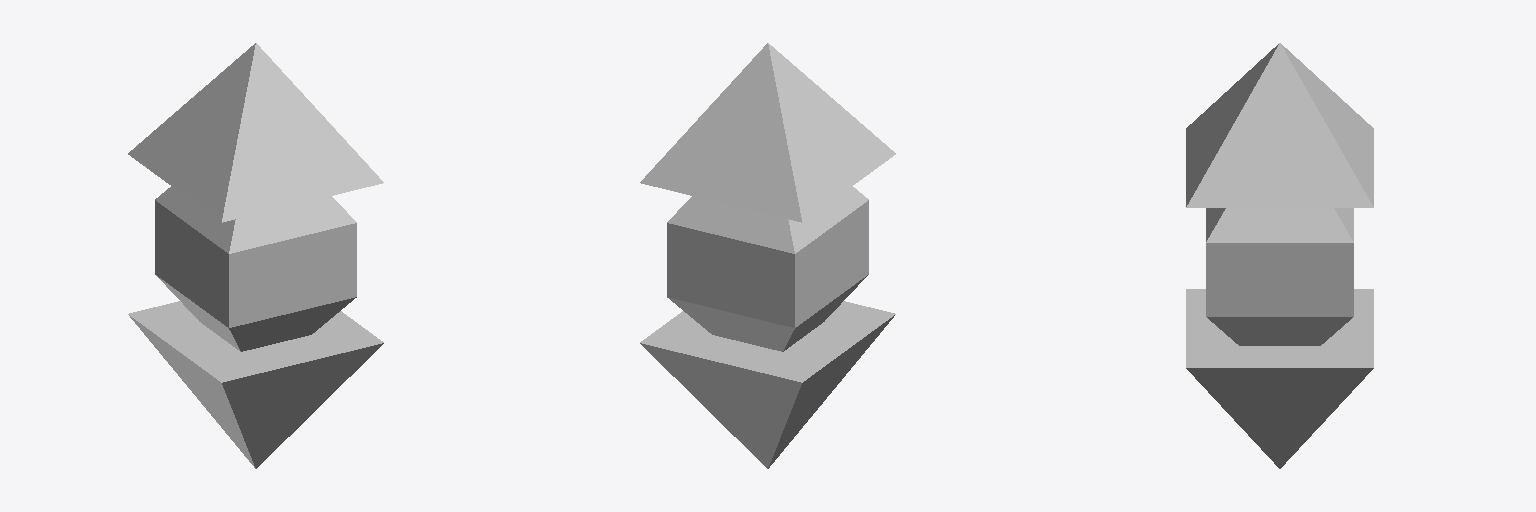
File: satelite.obj
3 renders of one model, left to right at view 1: azimuth 30°, elevation 25°; view 2: azimuth 150°, elevation 25°; view 3: azimuth 270°, elevation 25°, orthographic.
Visible parts, largest first — view 1: nav_sattilite; view 2: nav_sattilite; view 3: nav_sattilite.
Part boxes in pixels (left/top/right/bottom): nav_sattilite: left=128, top=43, right=383, bottom=468; nav_sattilite: left=640, top=43, right=895, bottom=468; nav_sattilite: left=1186, top=43, right=1373, bottom=468.
Bounding box in the file's own units: 2.97 × 7.43 × 2.97.